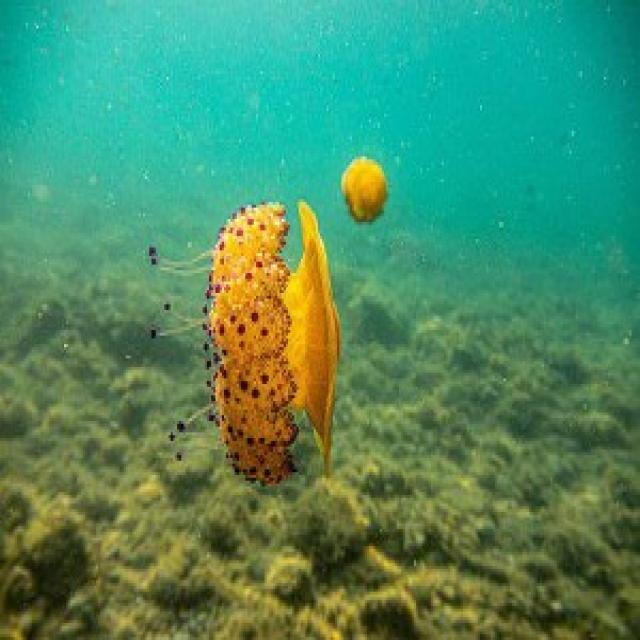Jellyfish: (164, 195, 348, 582)
